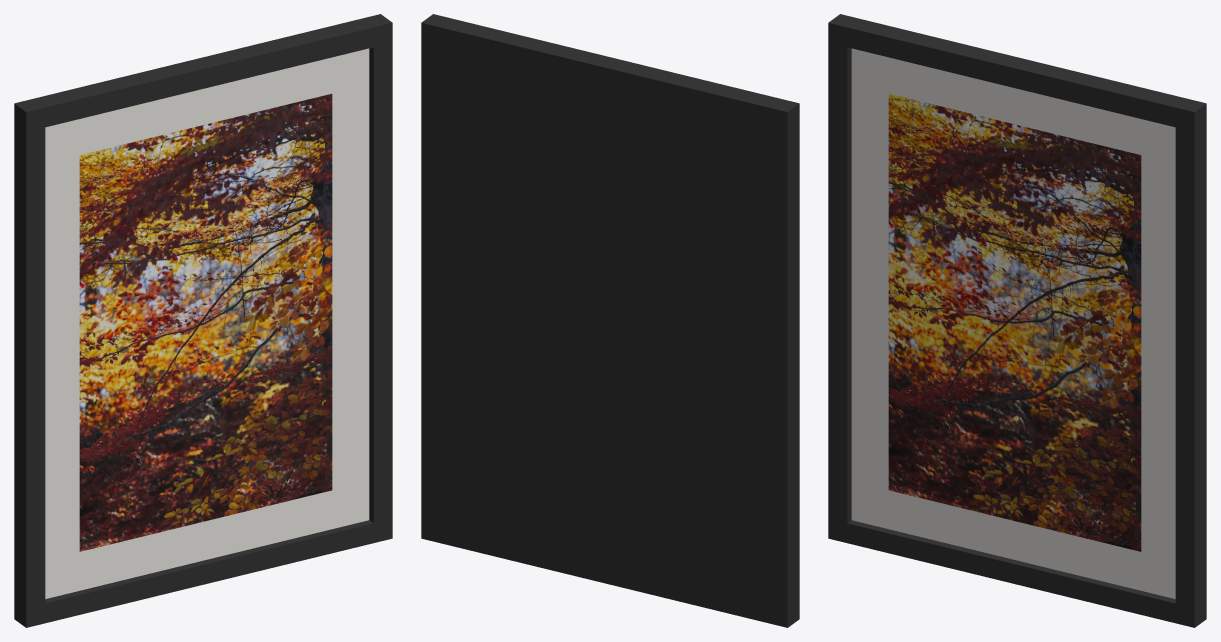
Rendered from hosteld-40.gltf.
3 renders of one model, left to right at view 1: azimuth 30°, elevation 25°; view 2: azimuth 150°, elevation 25°; view 3: azimuth 330°, elevation 25°, orthographic.
Parts seen in each view (by area): view 1: tavla; view 2: tavla; view 3: tavla.
Part boxes in pixels (bbox=[...]): tavla: bbox=[14, 14, 392, 627]; tavla: bbox=[421, 14, 799, 627]; tavla: bbox=[828, 14, 1206, 627].
Bounding box in the file's own units: 0.3867 × 0.52 × 0.022.
3 materials, 1 textured.
